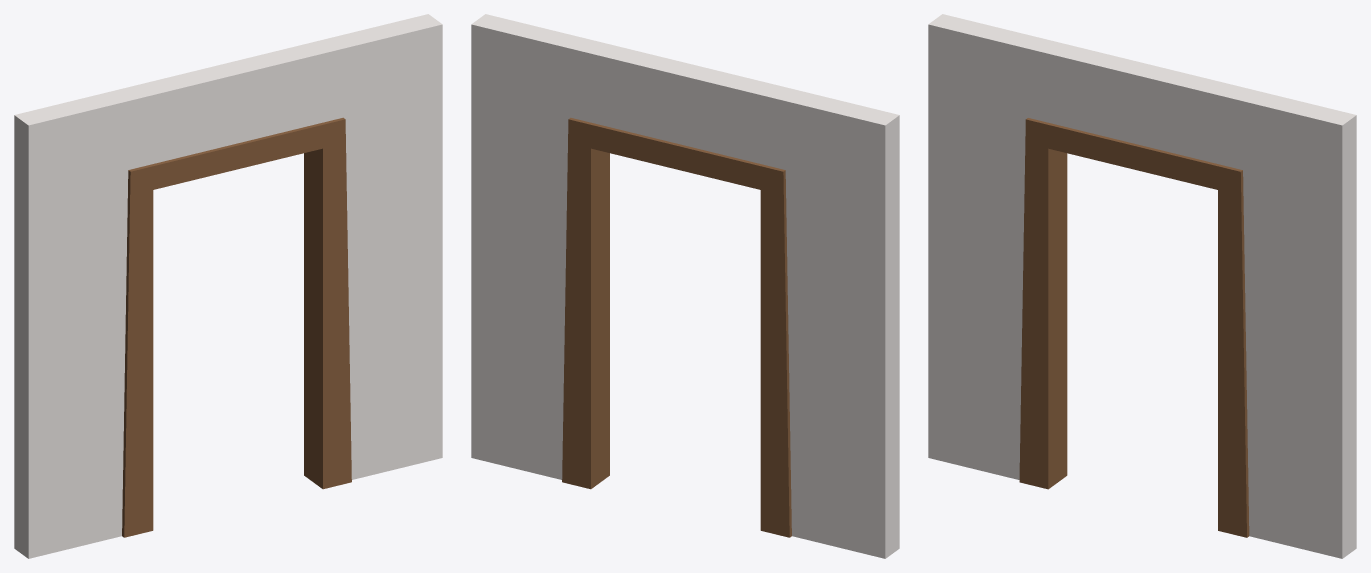
The model's file is Wall_09.fbx.
The picture shows the model from 3 angles, left to right: view 1: azimuth 30°, elevation 25°; view 2: azimuth 150°, elevation 25°; view 3: azimuth 330°, elevation 25°; orthographic projection.
Parts seen in each view (by area): view 1: Wall_09; view 2: Wall_09; view 3: Wall_09.
Boxes of the visible parts, box(x1,y1,x2,y2) form: Wall_09: box(14, 14, 442, 558); Wall_09: box(471, 14, 899, 558); Wall_09: box(928, 14, 1356, 558).
Size of the model in its own units: 259 by 259 by 20.37.
